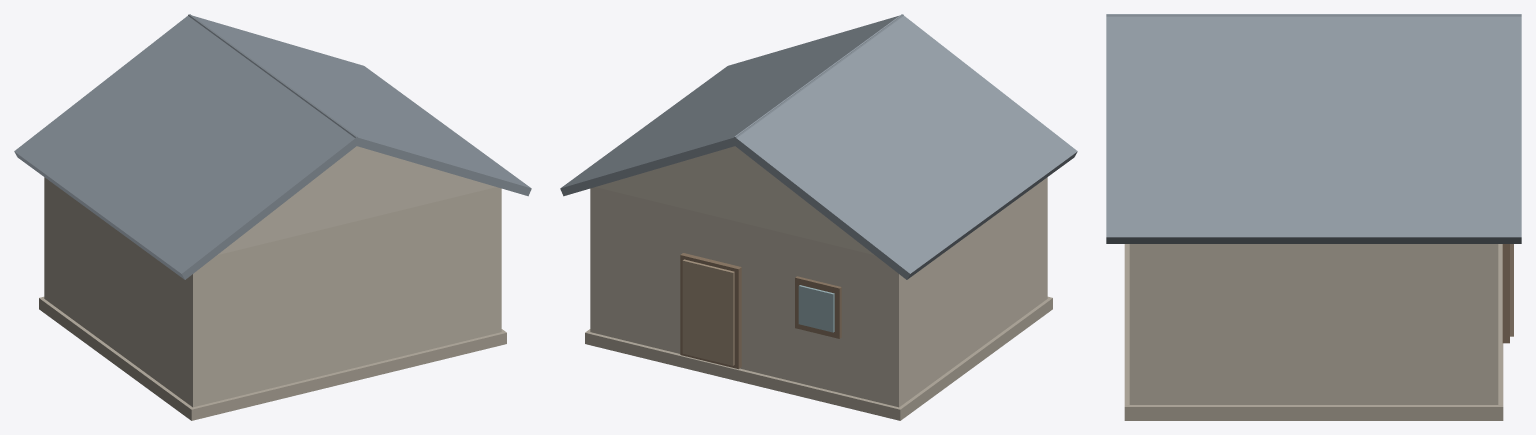
3 views of the same model, side by side, from view 1: azimuth 30°, elevation 25°; view 2: azimuth 150°, elevation 25°; view 3: azimuth 270°, elevation 25° (orthographic). The views are drawn at different scales.
Visible parts, largest first — view 1: StaticGeometry; view 2: StaticGeometry; view 3: StaticGeometry.
Part boxes in pixels (bbox=[...]): StaticGeometry: bbox=[14, 14, 531, 420]; StaticGeometry: bbox=[560, 14, 1077, 420]; StaticGeometry: bbox=[1106, 14, 1521, 420].
Bounding box in the file's own units: 7.48 × 5.12 × 6.2.
